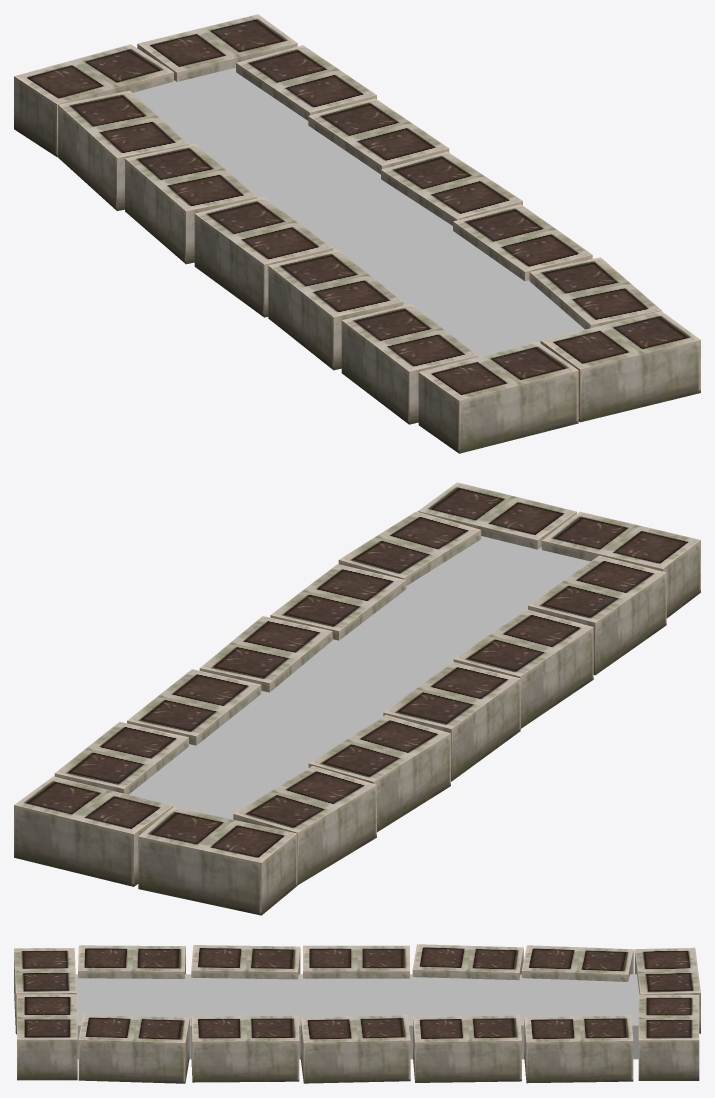
The model's file is raisedBed13.fbx.
3 views of the same model, one above another, from view 1: azimuth 30°, elevation 25°; view 2: azimuth 150°, elevation 25°; view 3: azimuth 270°, elevation 25° (orthographic). The views are drawn at different scales.
Parts seen in each view (by area): view 1: raisedBed13; view 2: raisedBed13; view 3: raisedBed13.
Part boxes in pixels (x1=…): raisedBed13: x1=14, y1=14, x2=700, y2=453; raisedBed13: x1=14, y1=482, x2=700, y2=915; raisedBed13: x1=14, y1=944, x2=700, y2=1083.
Size of the model in its own units: 95.16 by 18.26 by 279.
